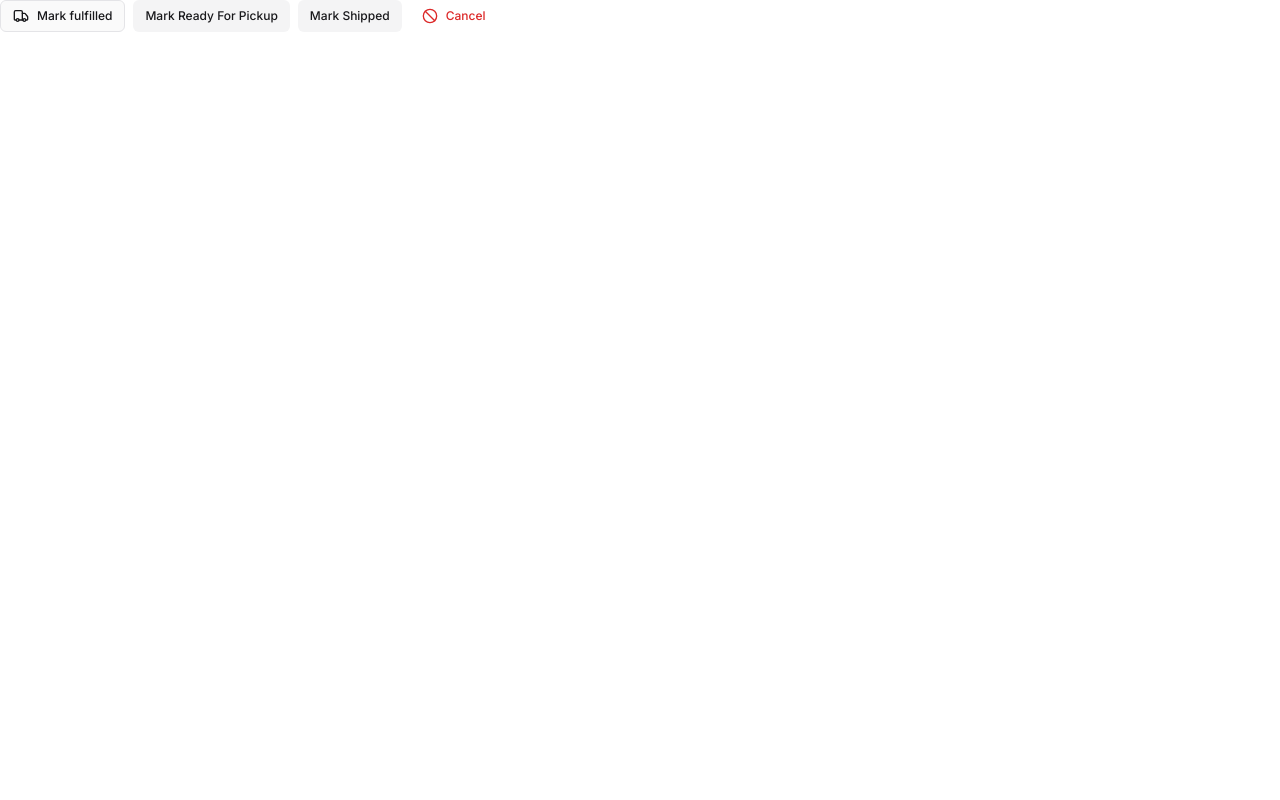
Scenario: shipping prompt › collects a tracking number instead of writing straight away
Step 1. Click the button "Mark Shipped" → (350, 16), box [298, 0, 402, 32]
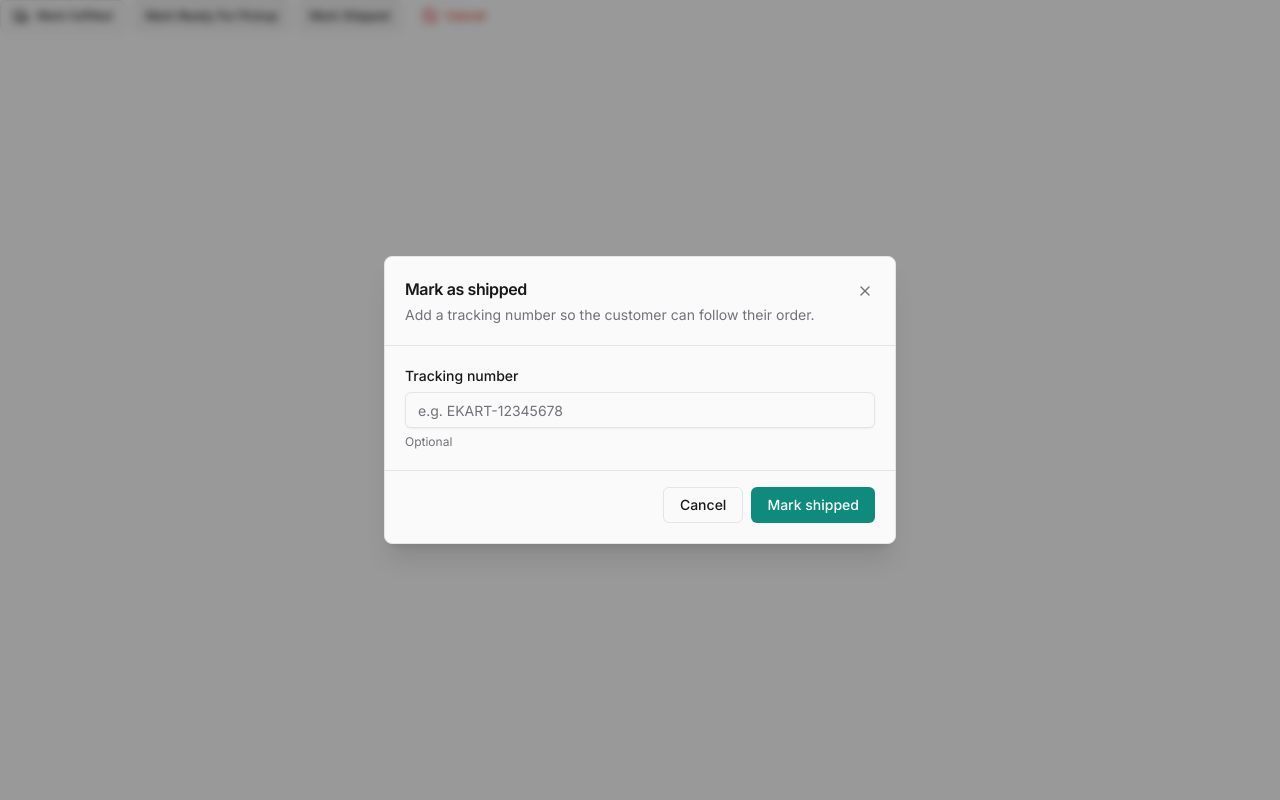
Expected: the dialog is shown, [384, 256, 896, 544]
